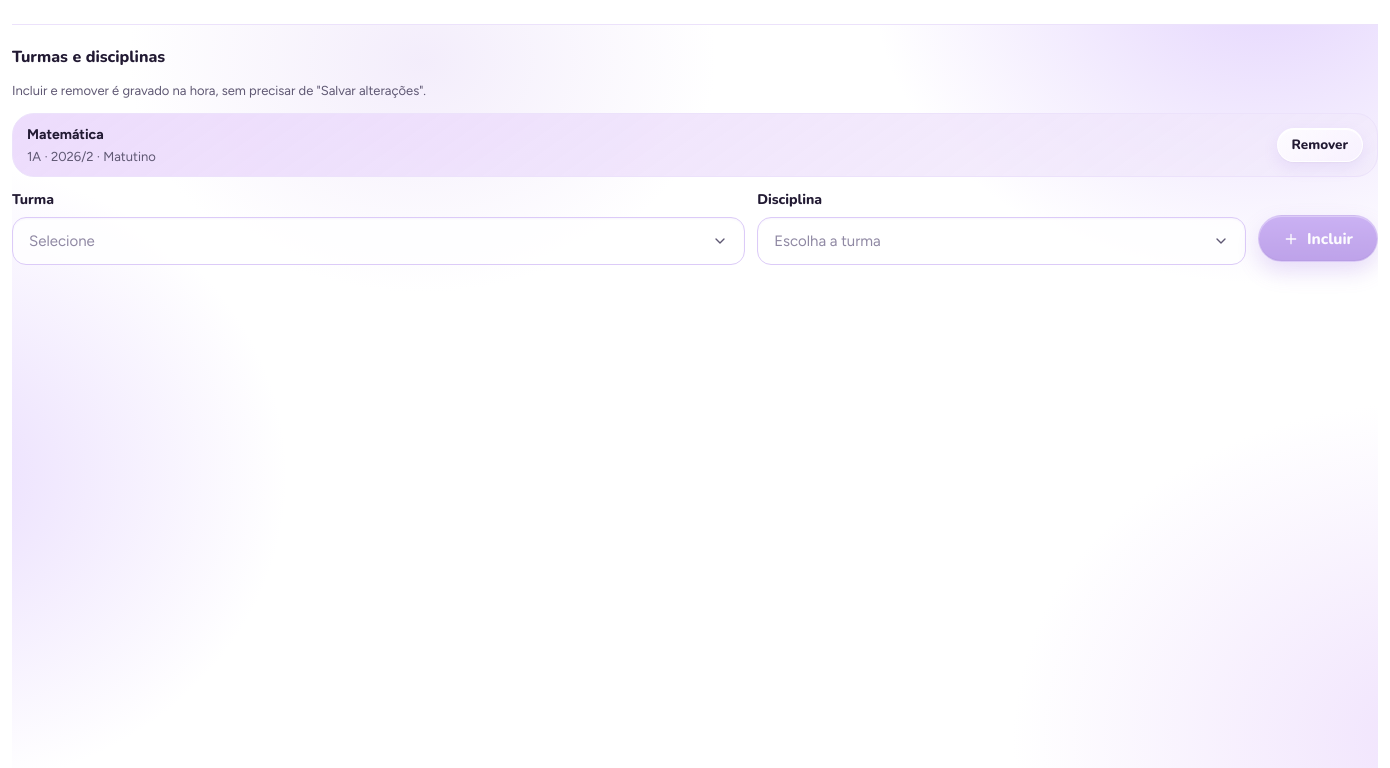
Test case: AlocacoesDoProfessor › inclui pelo POST e a alocação entra na lista
Click the dropdown named "Turma". click: (62, 241)
box: left=12, top=217, right=745, bottom=265
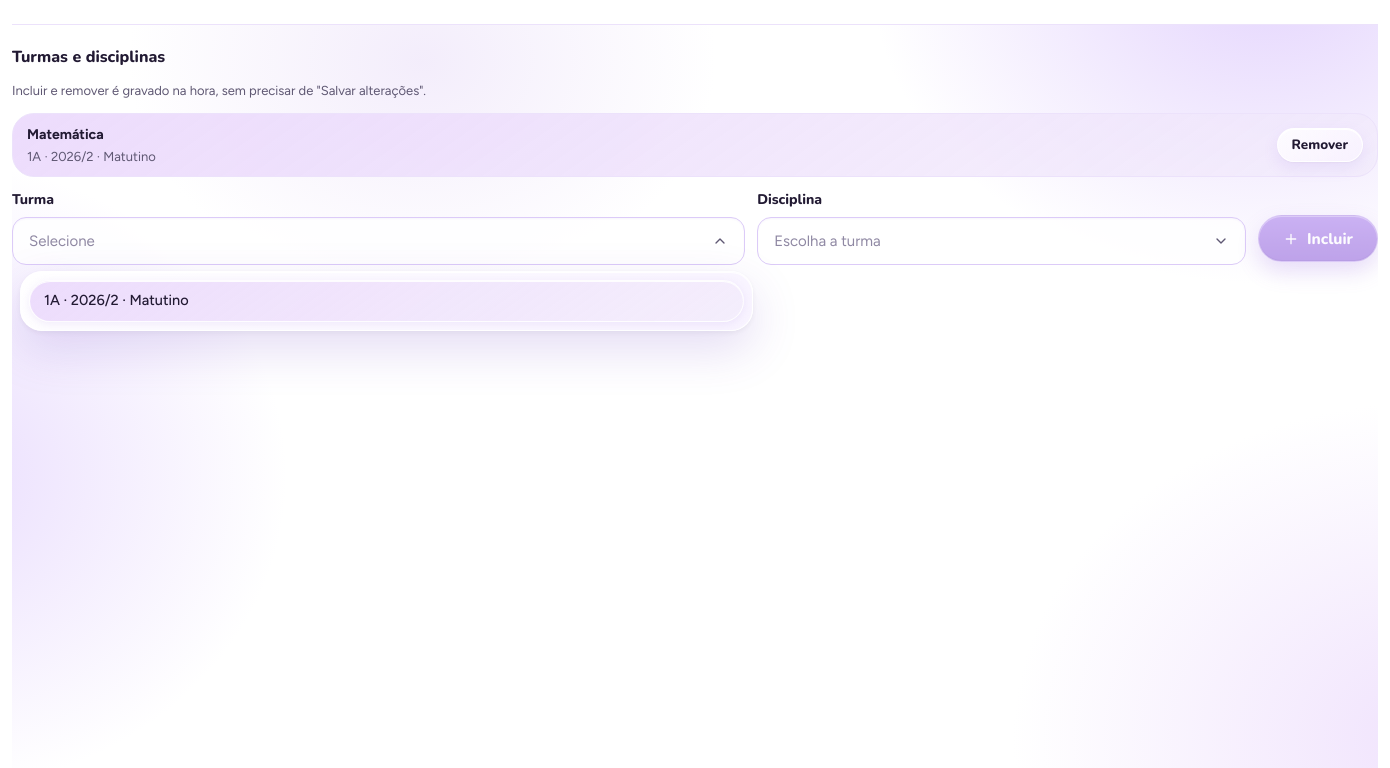
Click the option "1A · 2026/2 · Matutino". click: (116, 300)
box: left=29, top=280, right=744, bottom=322
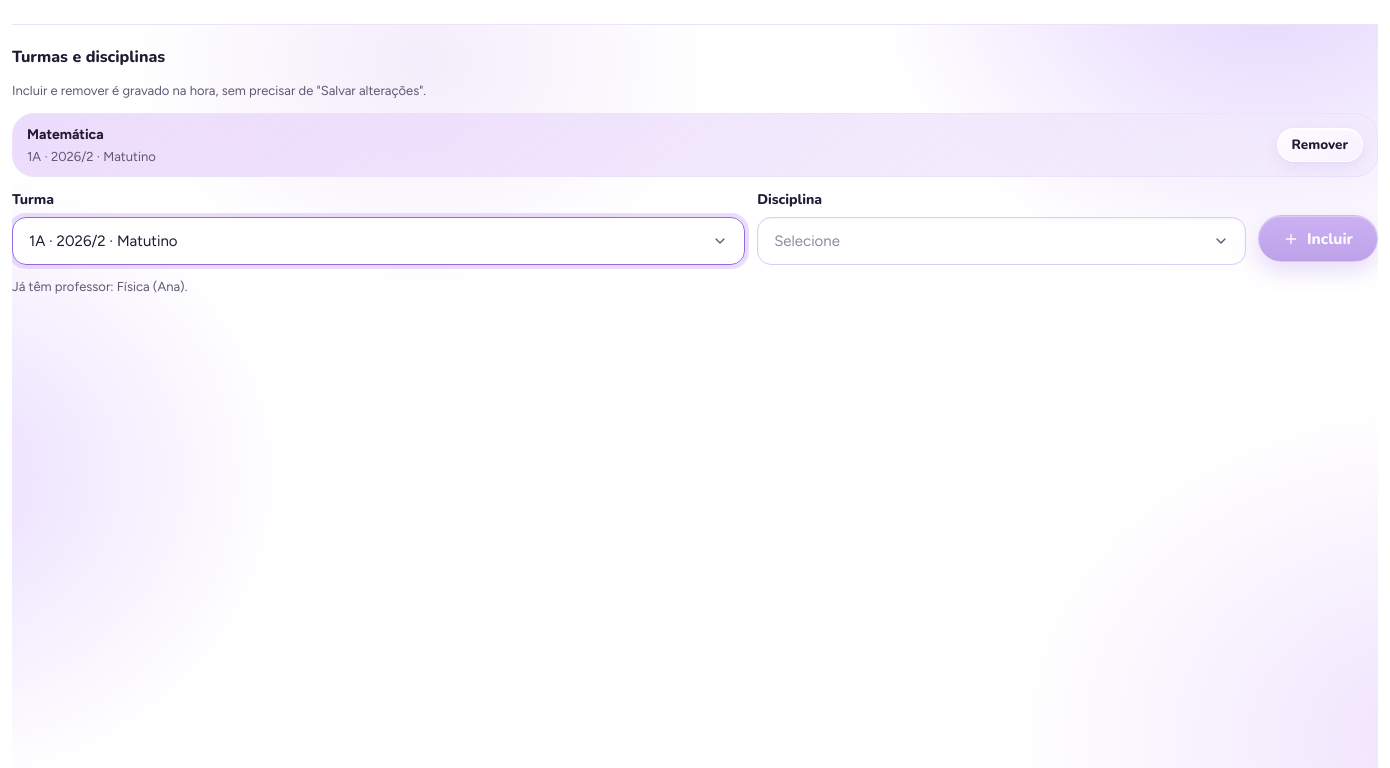
Now the text "Já têm professor: Física (Ana)." is shown, box left=12, top=279, right=187, bottom=294
Click the dropdown named "Disciplina". click: (807, 241)
box: left=757, top=217, right=1246, bottom=265
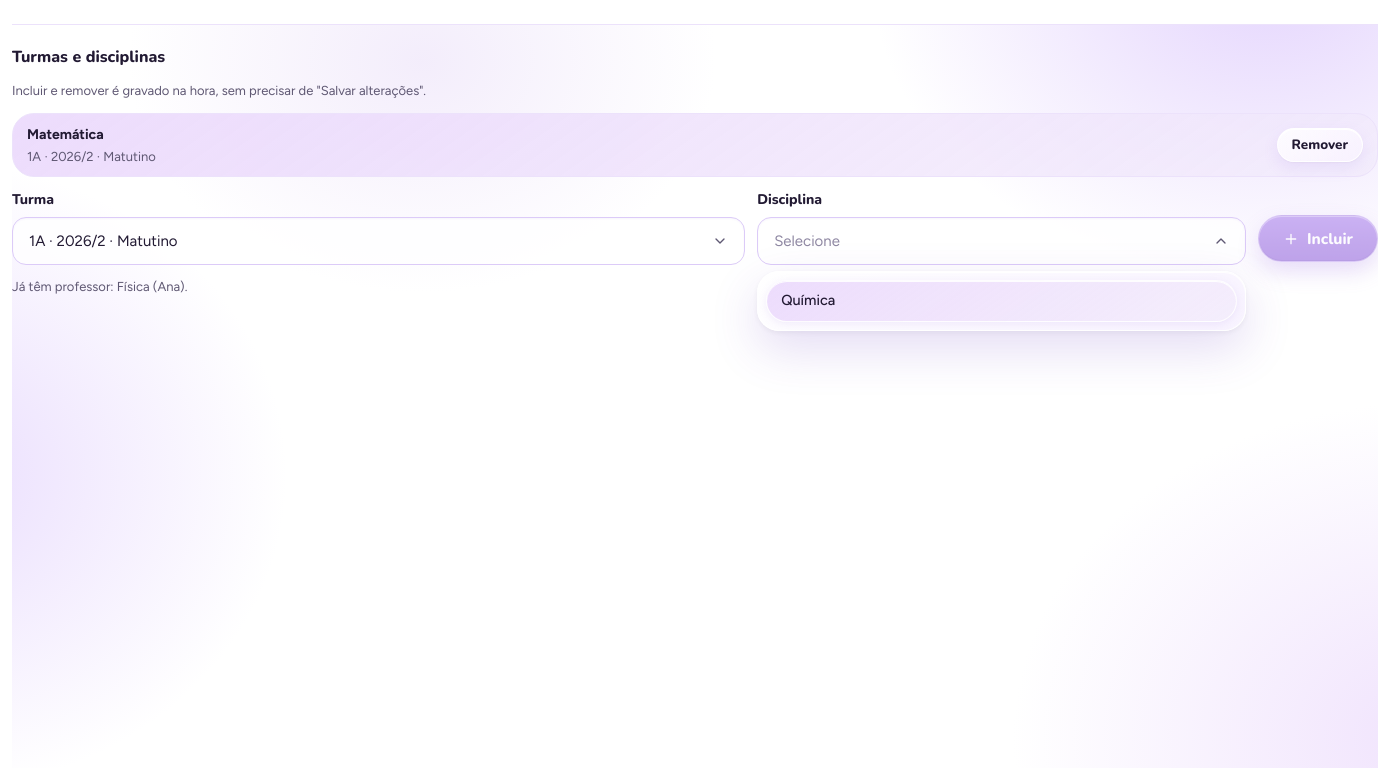
Click the option "Química". click: (808, 300)
box: left=766, top=280, right=1237, bottom=322
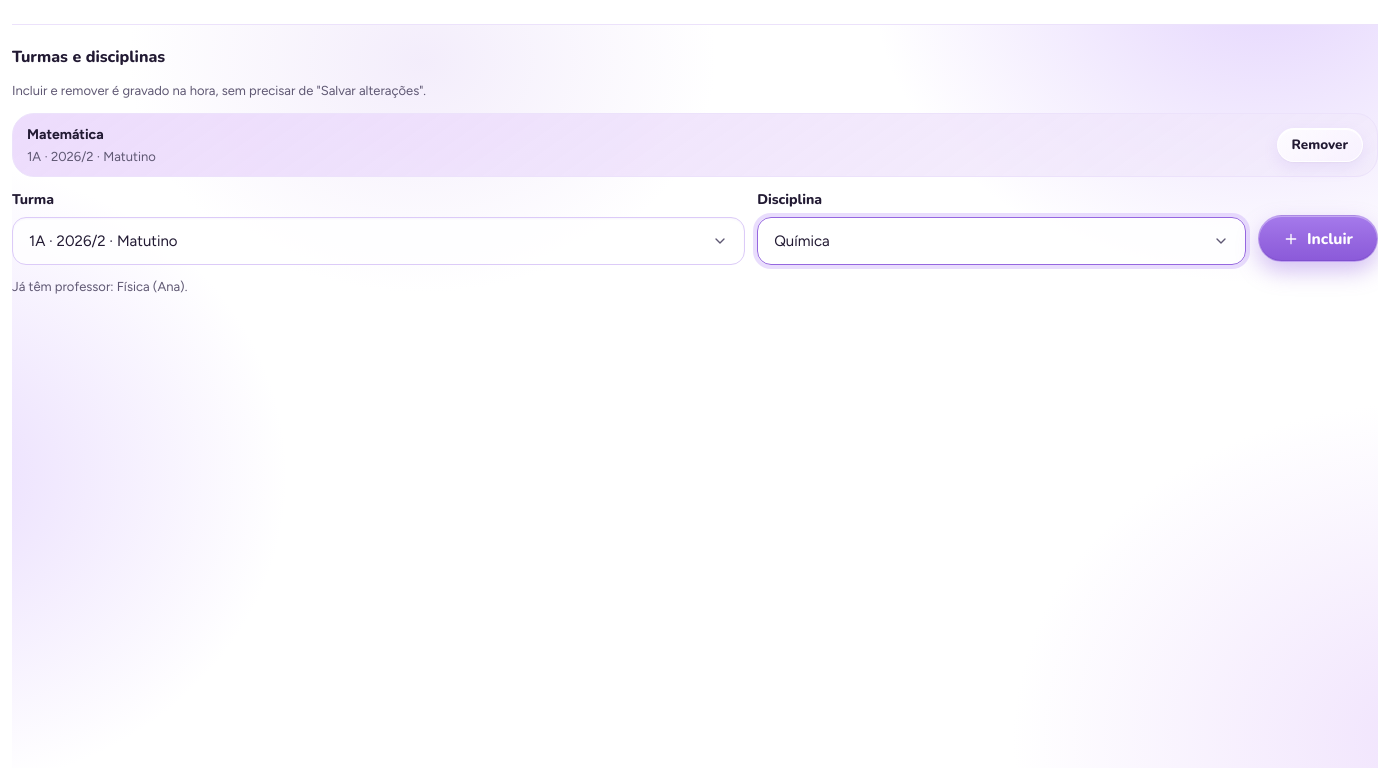
Click the button "Incluir". click: (1318, 239)
box: left=1258, top=215, right=1378, bottom=262
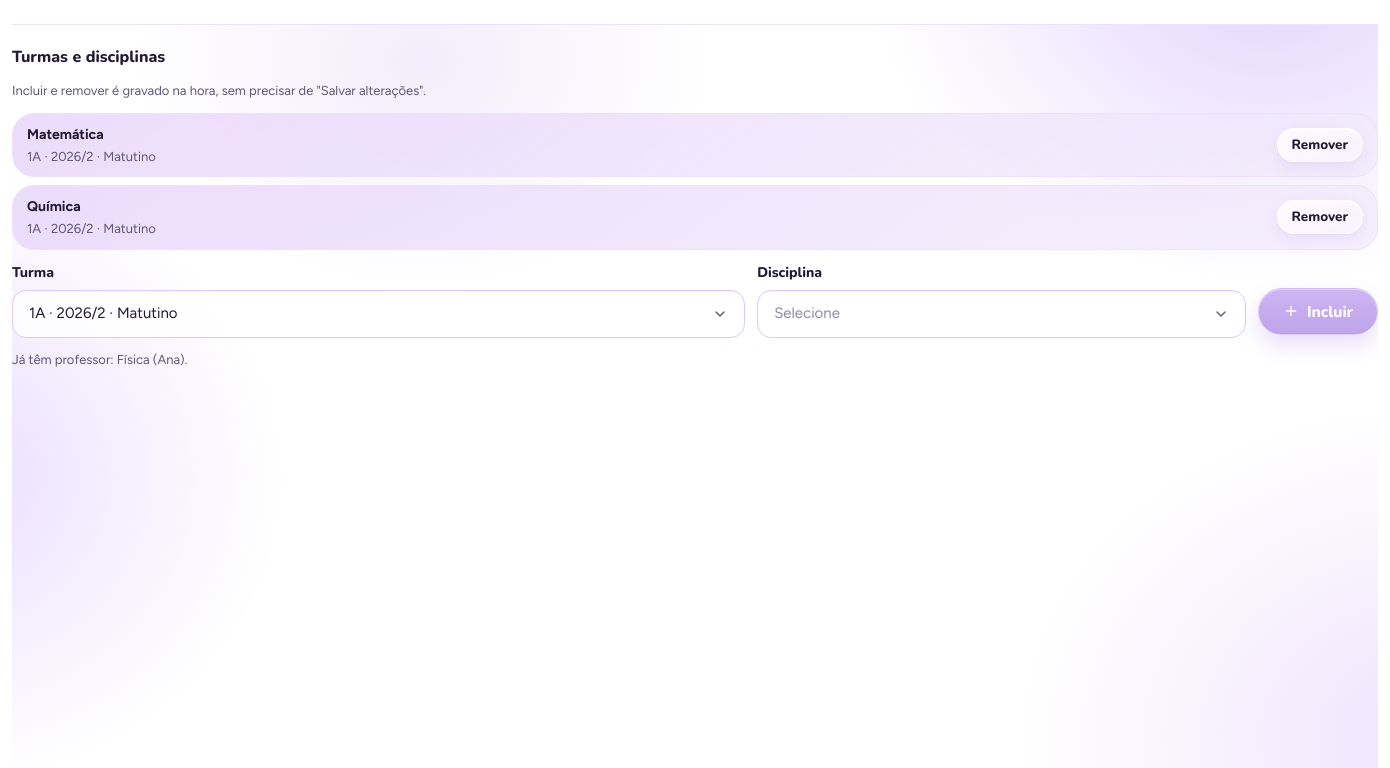
Now the button with aria-label "Remover Química de 1A" is shown, box left=1276, top=200, right=1363, bottom=234
